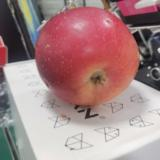apple: (36, 7, 138, 106)
